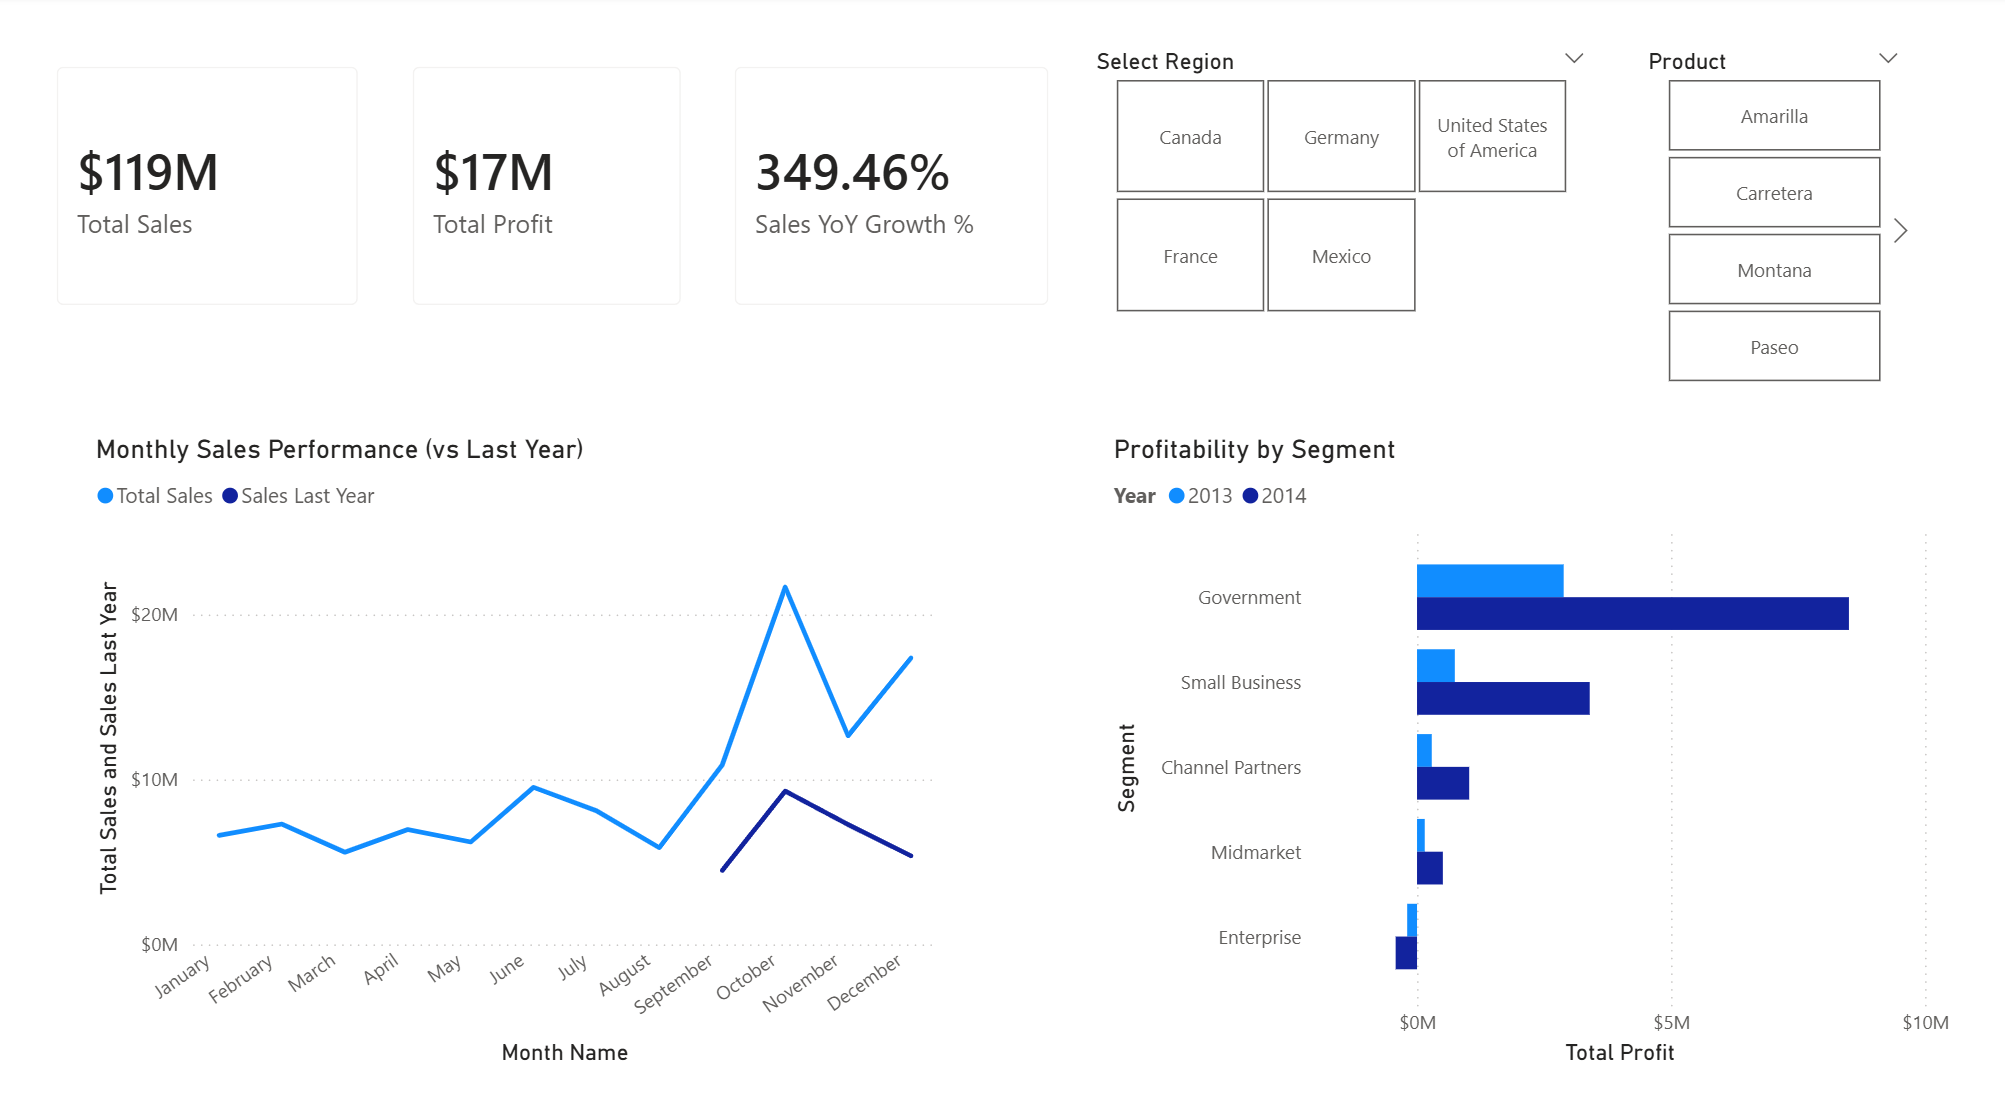

What the dashboard file says about the page in this screenshot:
{"tool":"powerbi","page":{"name":"Page 1","canvas":[1280,720],"ordinal":0},"visuals":[{"type":"cardVisual","fields":{"Data":["_Measures.Total Sales"]},"box":[20.4,29.3,226.9,186.1],"z":0},{"type":"cardVisual","fields":{"Data":["_Measures.Total Profit"]},"box":[247.3,29.3,205.3,186.1],"z":1000},{"type":"cardVisual","fields":{"Data":["_Measures.Sales YoY Growth %"]},"box":[452.6,29.3,234.6,186.1],"z":2000},{"type":"lineChart","title":"Monthly Sales Performance (vs Last Year)","fields":{"Y":["_Measures.Total Sales","_Measures.Sales Last Year"],"Category":["Dim_Date.Month Name"]},"box":[57.4,280.5,545.7,406.7],"z":3000},{"type":"clusteredBarChart","title":"Profitability by Segment","fields":{"Category":["Segment_Dim.Segment"],"Y":["_Measures.Total Profit"],"Series":["Dim_Date.Year"]},"box":[706.3,280.5,543.1,406.7],"z":3001},{"type":"slicer","fields":{"Values":["Country_Dim.Country"]},"box":[687.2,29.3,336.6,179.8],"z":3002},{"type":"slicer","fields":{"Values":["Product_Dim.Product"]},"box":[1039,29.3,184.9,224.4],"z":3003}]}

Visuals, with their boxes in screenshot pixels (x1, y1, x2, y2), scaled from the page's 1280x720 canvas onto the 2005x1119 screenshot:
cardVisual - _Measures.Total Sales: x1=32, y1=46, x2=387, y2=335
cardVisual - _Measures.Total Profit: x1=387, y1=46, x2=709, y2=335
cardVisual - _Measures.Sales YoY Growth %: x1=709, y1=46, x2=1076, y2=335
"Monthly Sales Performance (vs Last Year)" lineChart: x1=90, y1=436, x2=945, y2=1068
"Profitability by Segment" clusteredBarChart: x1=1106, y1=436, x2=1957, y2=1068
slicer - Country_Dim.Country: x1=1076, y1=46, x2=1604, y2=325
slicer - Product_Dim.Product: x1=1627, y1=46, x2=1917, y2=394
